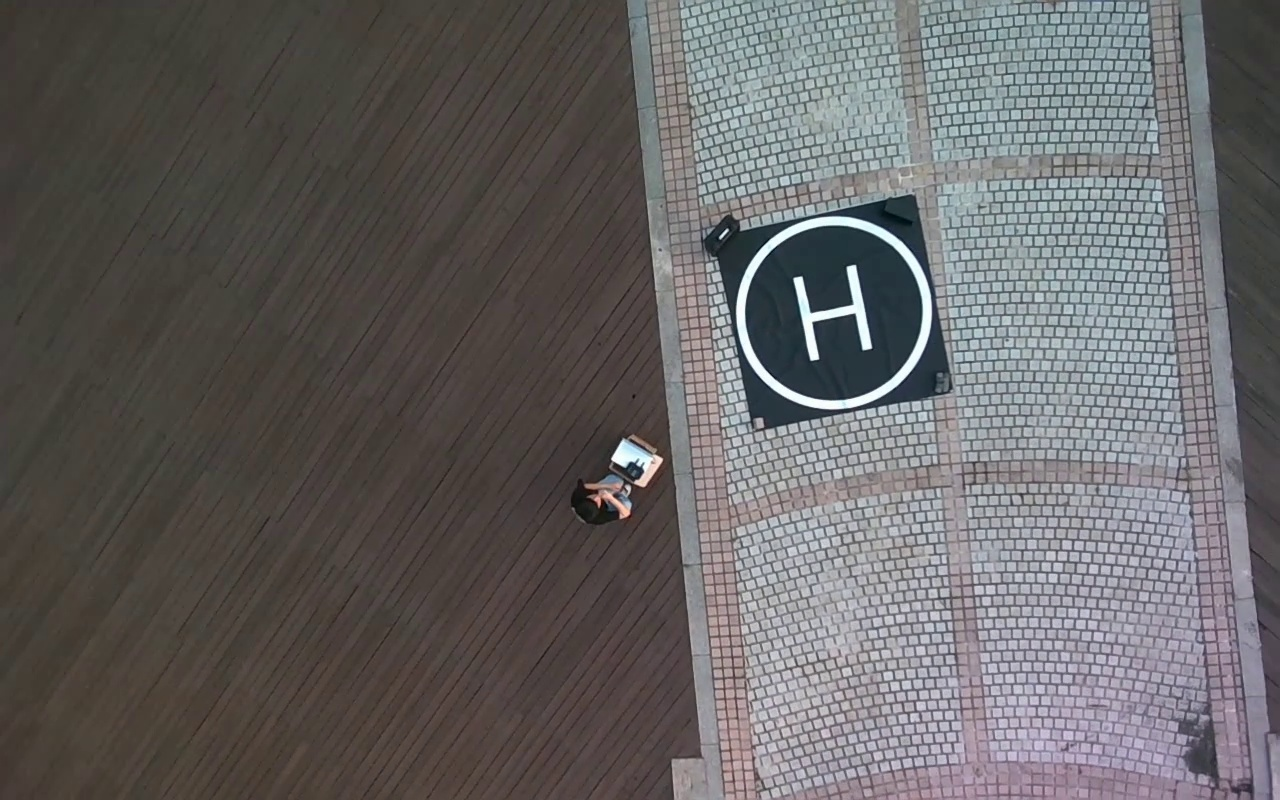H: (792, 264, 874, 361)
heliport: (739, 217, 935, 408)
